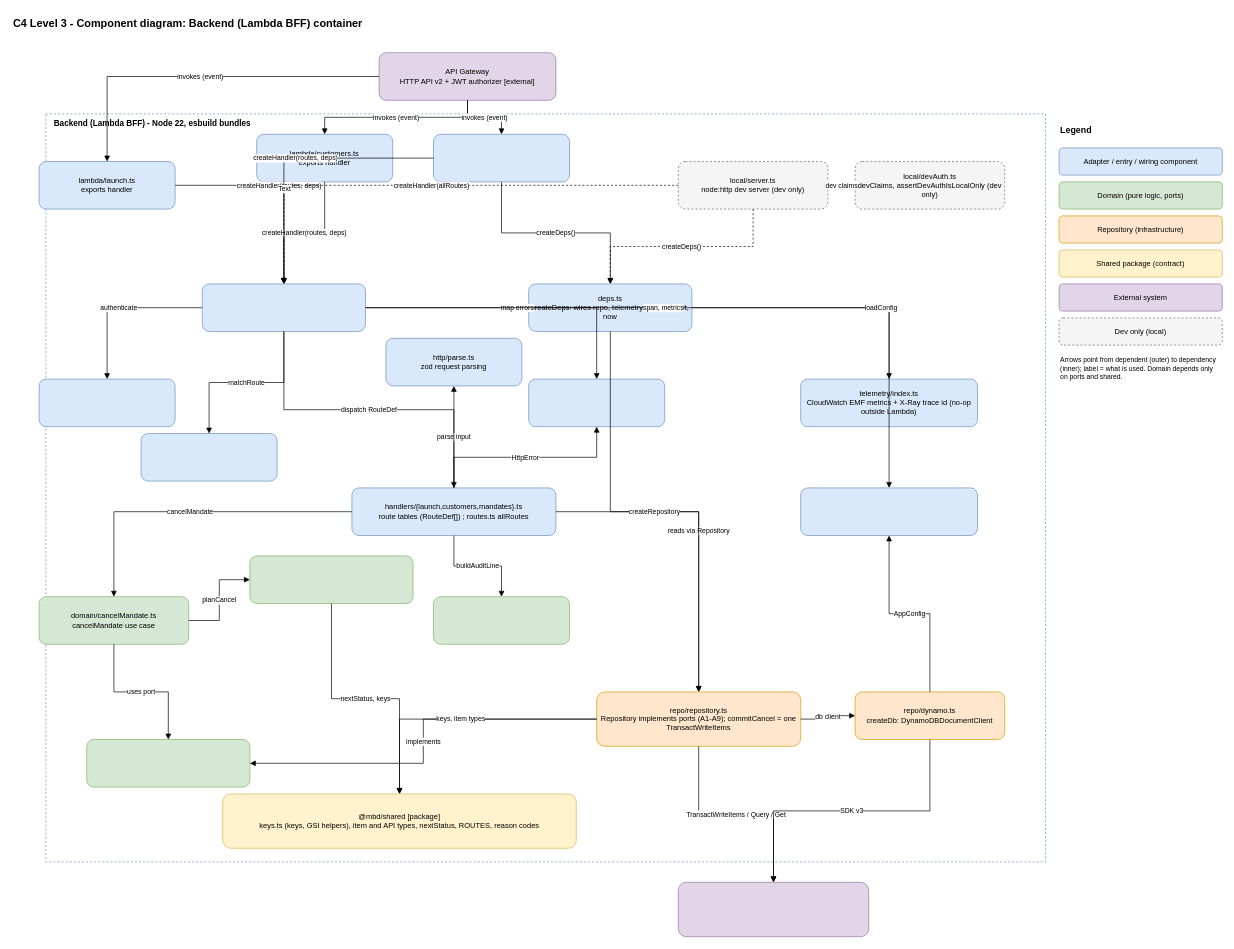
The diagram is 1234 pixels wide and 949 high, and some of its shapes have lost their labels. The shapes that lost their labels are listed below. From the top down, each one's centre as x and y in pixels, then its label:
At point 501,158: "lambda/mandates.ts exports handler".
At point 284,307: "http/handler.ts createHandler: span, auth, route, error mapping".
At point 106,402: "http/auth.ts authenticate: JWT claims, banker group".
At point 596,402: "http/errors.ts HttpError, notFound, forbidden".
At point 208,457: "http/router.ts matchRoute, routeLabel".
At point 889,511: "config.ts loadConfig: TABLE_NAME, region, endpoint".
At point 331,579: "domain/mandate.ts planCancel, isCancellable, DTO mapping".
At point 501,620: "domain/audit.ts buildAuditLine".
At point 168,763: "domain/ports.ts CancelRepository, CommitOutcome".
At point 773,909: "DynamoDB table bdsmini [external]".
